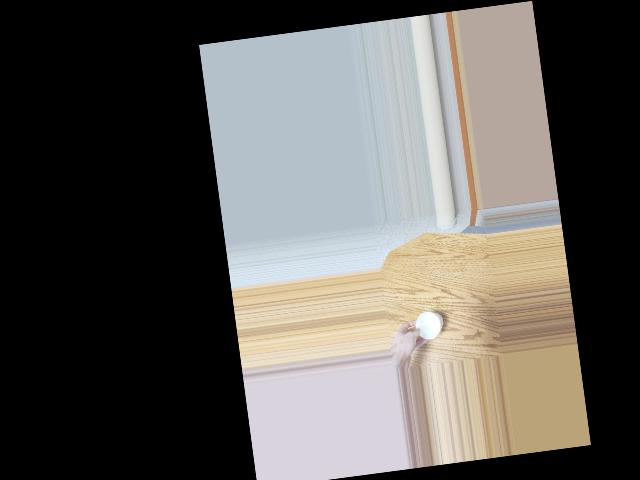cotage: (412, 305, 446, 340)
